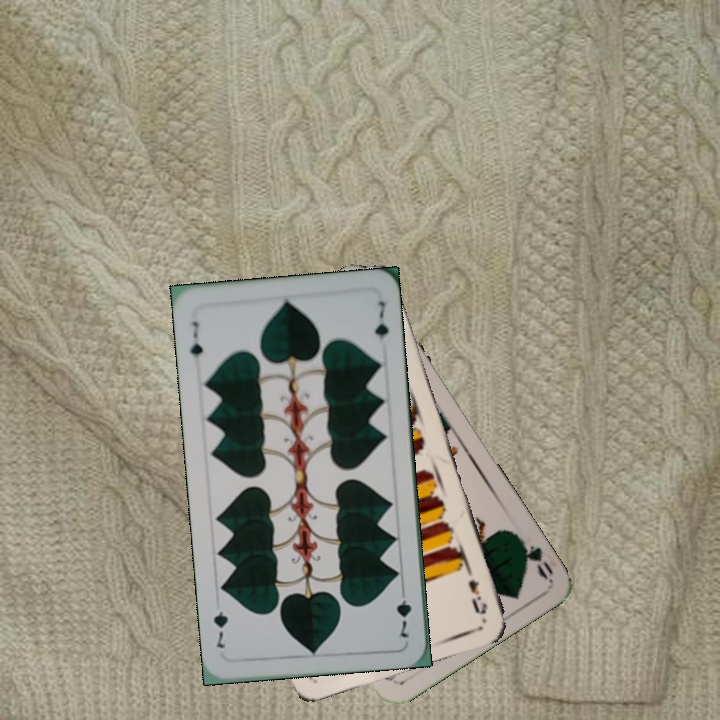E9: (462, 563, 490, 617)
G7: (392, 583, 414, 642), (186, 317, 206, 360)
GO: (512, 530, 551, 582)
